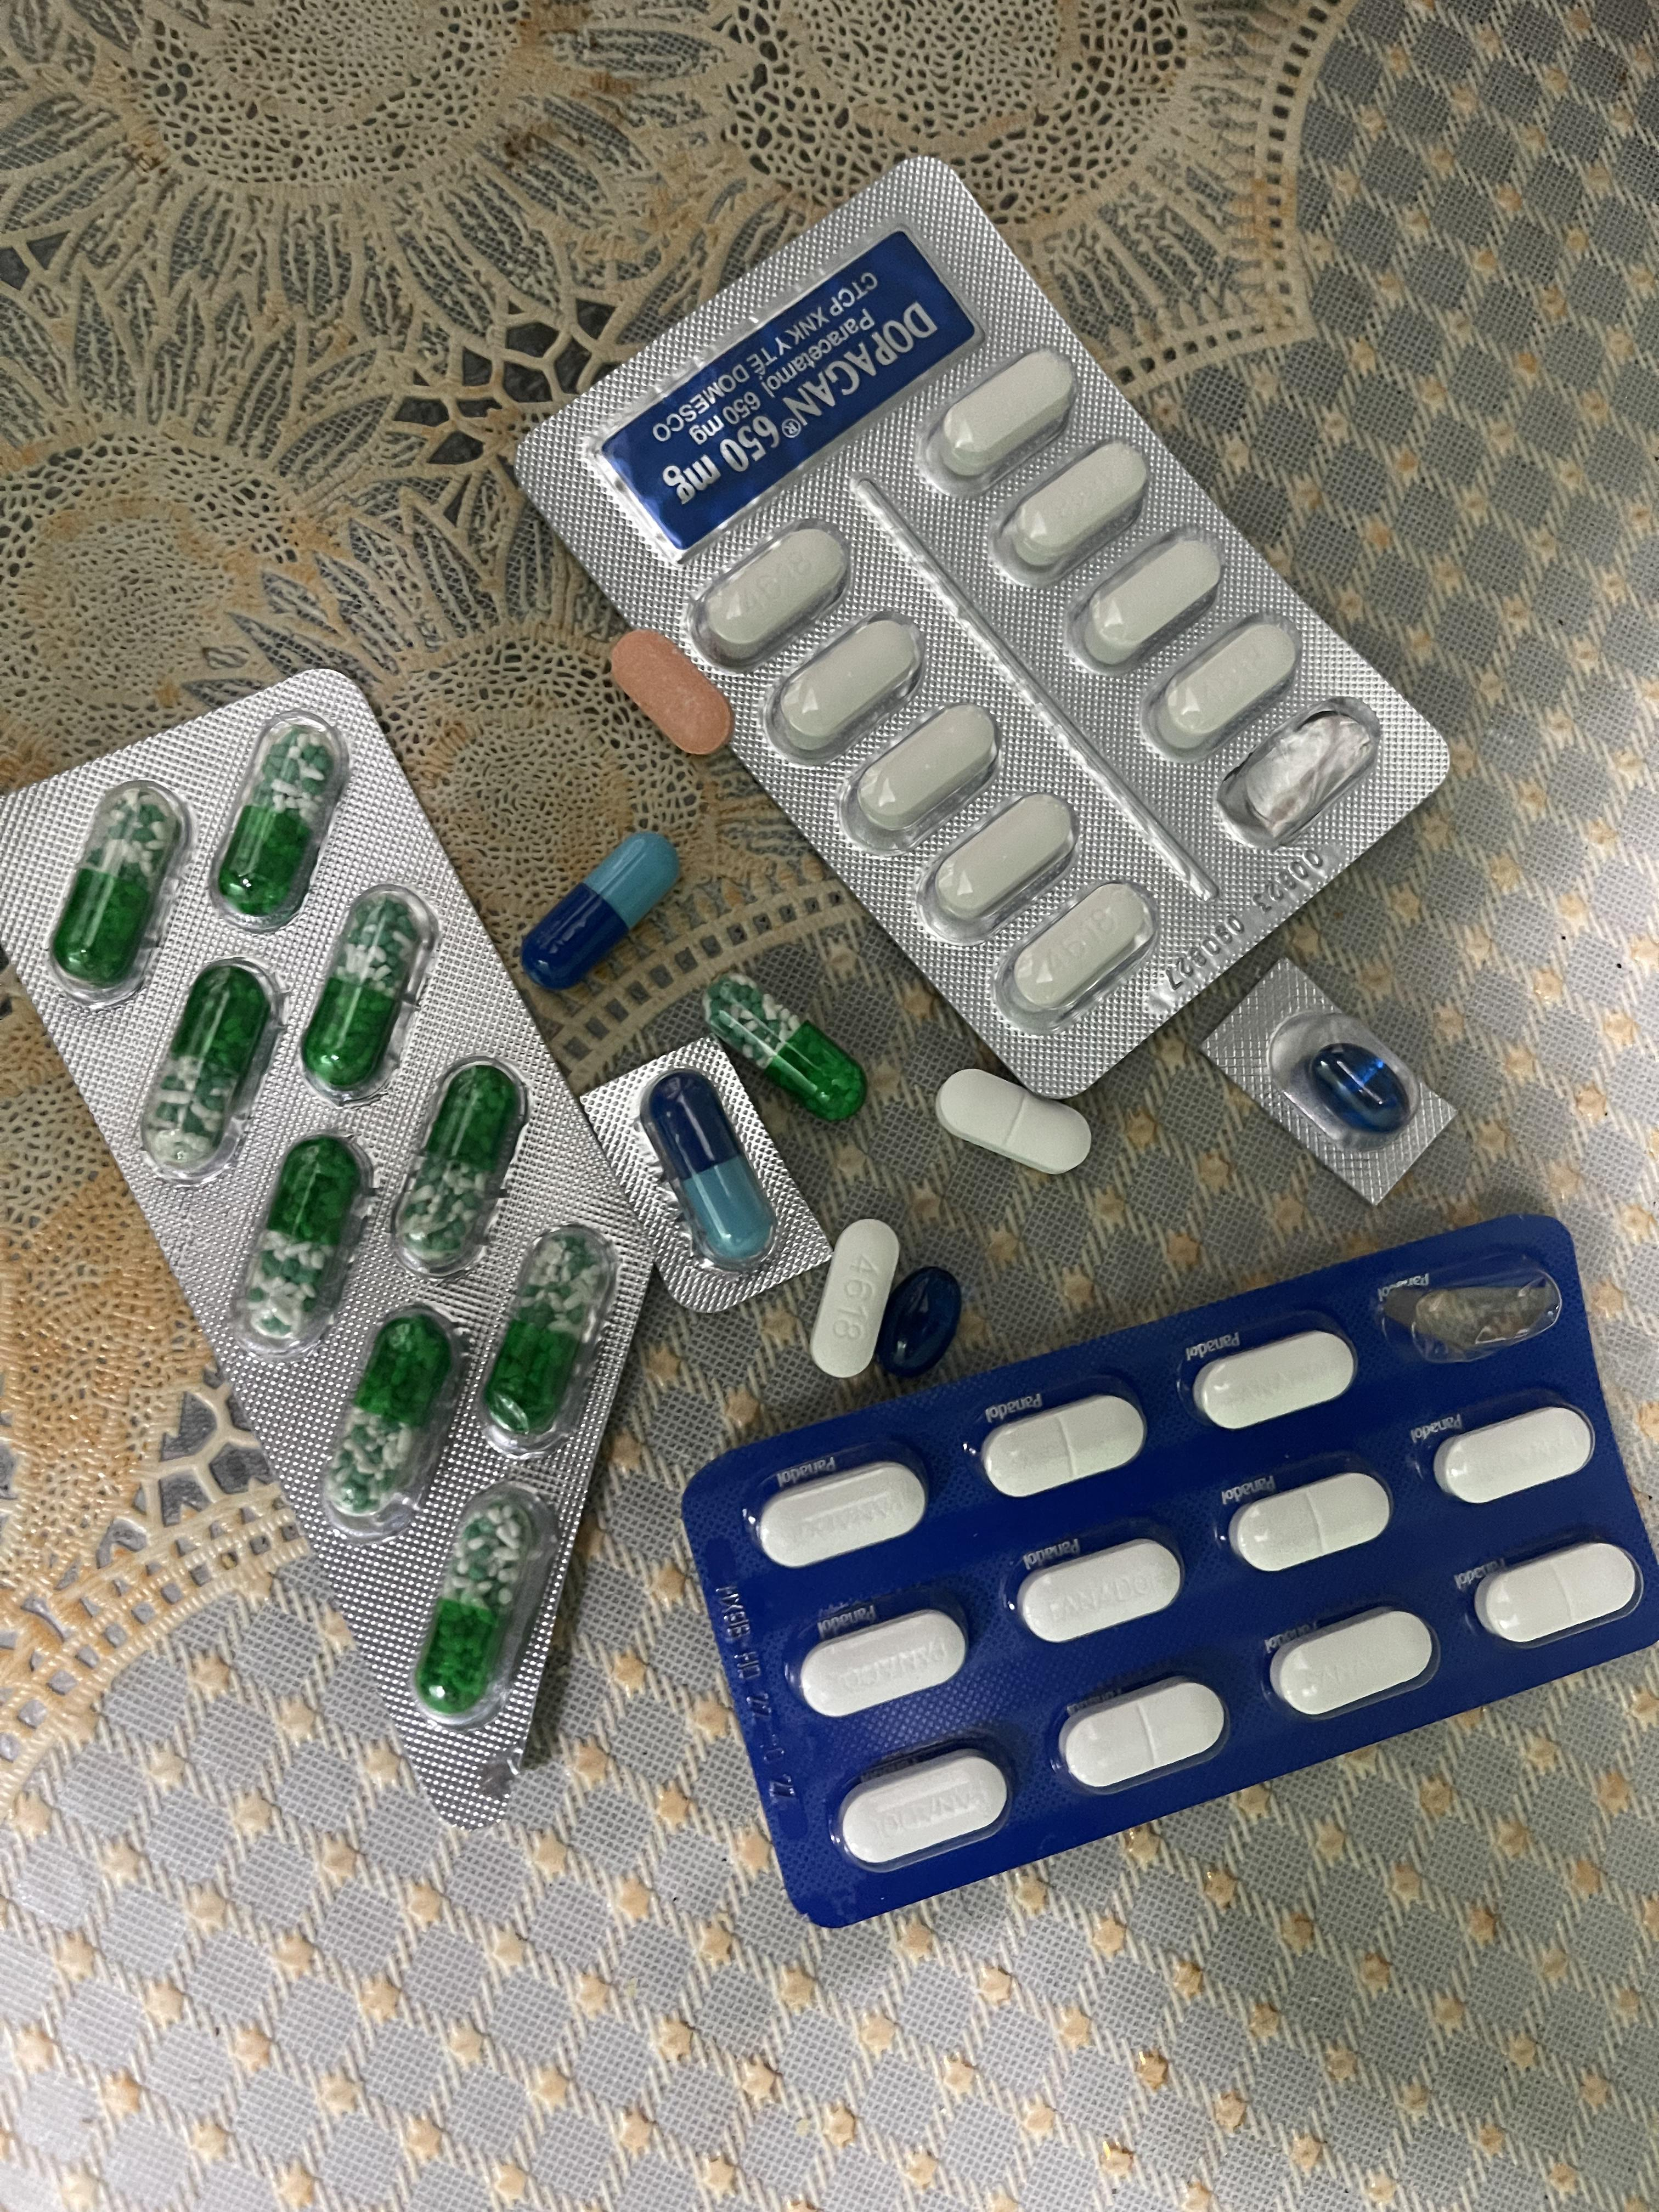Lincomyxin_500mg: (878, 1266, 964, 1378), (1309, 1042, 1412, 1132)
Loratadine_10mg: (610, 629, 734, 758)
Paracetamol_350mg: (836, 1747, 1014, 1872), (1267, 1608, 1443, 1723), (1061, 1676, 1232, 1794), (798, 1606, 969, 1721), (755, 1454, 924, 1569), (1474, 1538, 1647, 1648), (1014, 1536, 1182, 1646), (1225, 1467, 1392, 1573), (978, 1393, 1141, 1500), (932, 1066, 1093, 1174), (1188, 1331, 1356, 1432), (1434, 1404, 1598, 1507)
Paracetamol_500mg: (911, 789, 1073, 941), (842, 695, 999, 850), (762, 606, 918, 761), (688, 516, 845, 671), (1140, 608, 1295, 758), (997, 881, 1155, 1026), (1082, 528, 1223, 665), (1004, 439, 1147, 573), (943, 347, 1073, 458), (809, 1230, 901, 1379)
Paracetamol_650mg: (408, 1487, 554, 1723), (314, 1306, 465, 1527), (136, 965, 284, 1179), (227, 1141, 371, 1359), (45, 780, 190, 998), (477, 1230, 620, 1449), (211, 716, 350, 927), (300, 892, 439, 1101), (389, 1062, 525, 1271), (708, 975, 866, 1125)
pill: (521, 827, 687, 989), (645, 1069, 779, 1268)
